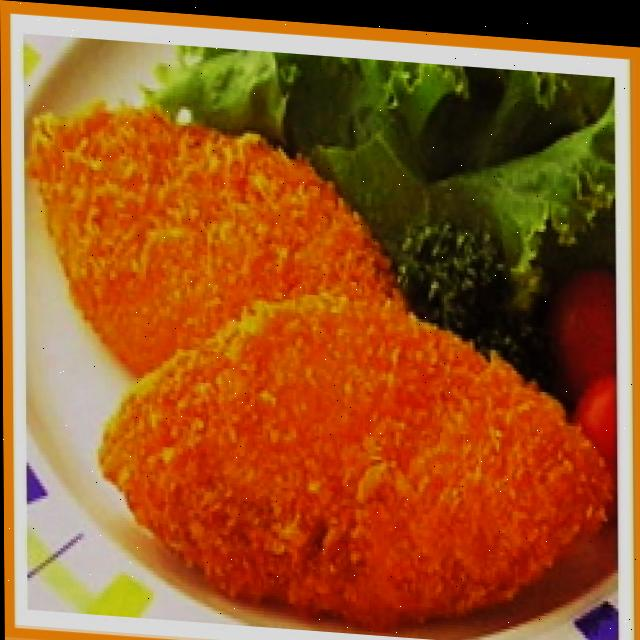炸货点心: (1, 103, 628, 622)
熟制海鲜: (1, 103, 628, 622)
